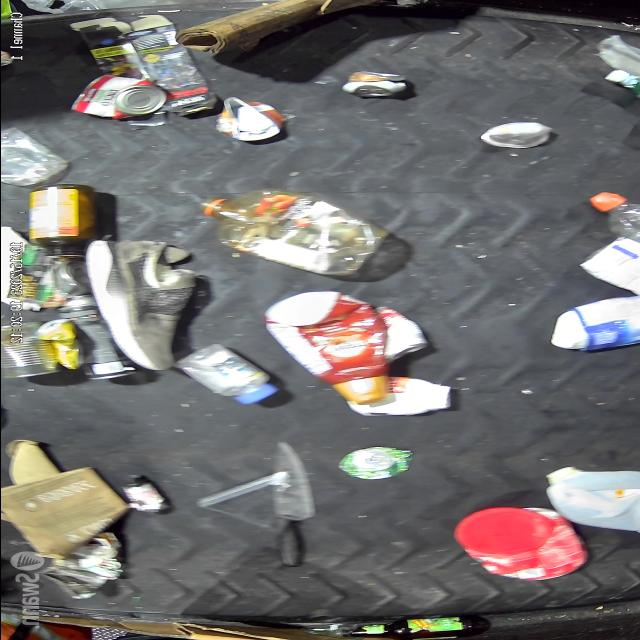can: (55, 295, 139, 381), (66, 74, 169, 120), (0, 320, 62, 380), (214, 94, 287, 144), (372, 306, 431, 364), (335, 446, 413, 482), (342, 70, 409, 99), (44, 260, 92, 298)
milk_jug: (539, 464, 640, 536)
non_white_jug: (194, 188, 390, 278), (260, 290, 392, 406), (449, 506, 592, 582)
